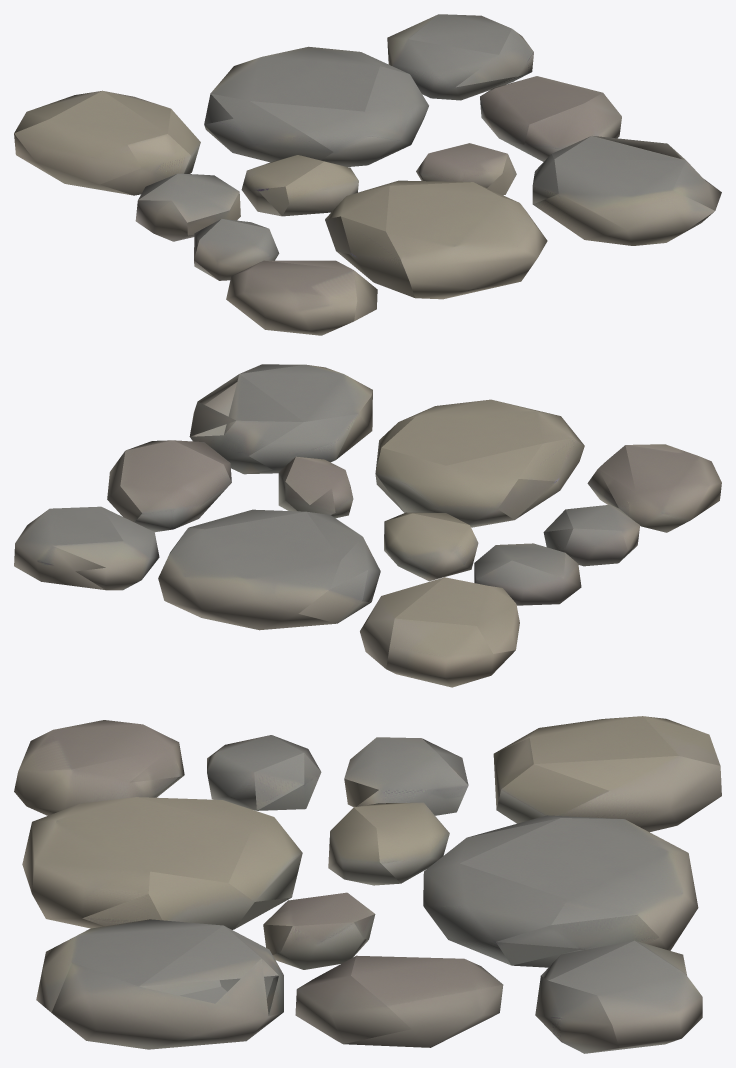
File: stone_path.glb
3 views of the same model, one above another, from view 1: azimuth 30°, elevation 25°; view 2: azimuth 150°, elevation 25°; view 3: azimuth 270°, elevation 25° (orthographic). The views are drawn at different scales.
Visible parts, largest first — view 1: mesh_node; view 2: mesh_node; view 3: mesh_node.
Part boxes in pixels (left/top/right/bottom): mesh_node: left=14, top=14, right=721, bottom=335; mesh_node: left=14, top=364, right=721, bottom=687; mesh_node: left=14, top=716, right=721, bottom=1053.
Size of the model in its own units: 0.9961 by 0.1135 by 0.9961.
1 material, 1 textured.
